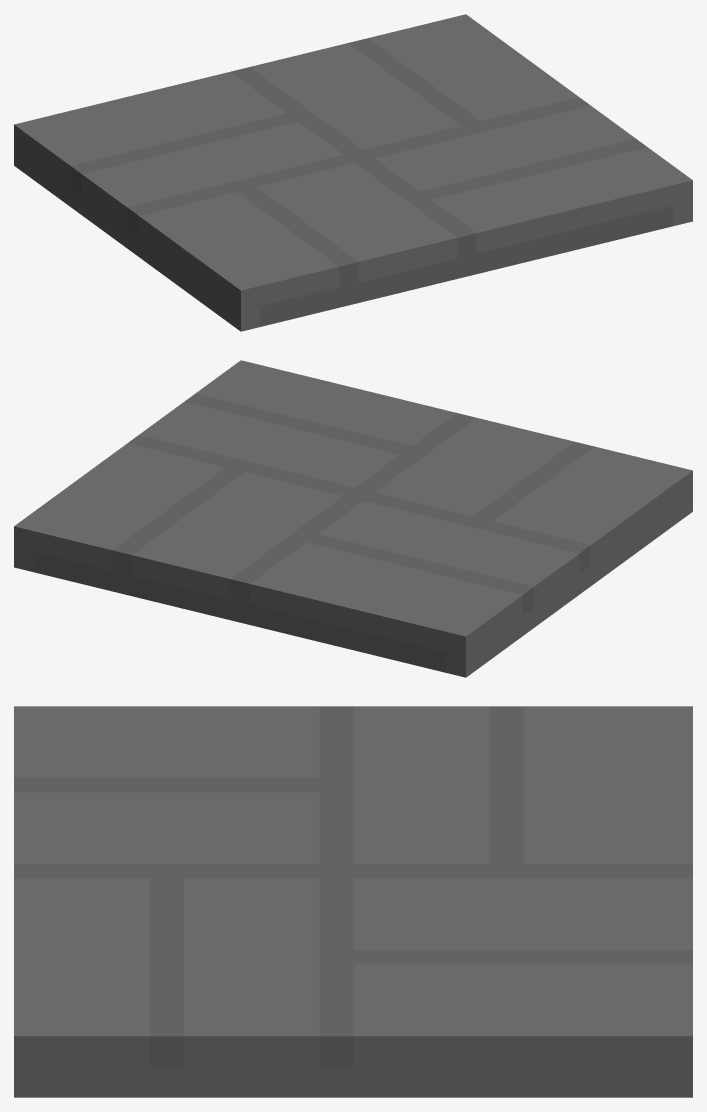
The model's file is Tile_City.obj.
The picture shows the model from 3 angles, top to bottom: view 1: azimuth 30°, elevation 25°; view 2: azimuth 150°, elevation 25°; view 3: azimuth 270°, elevation 25°; orthographic projection. The views are drawn at different scales.
Size of the model in its own units: 23 by 2 by 20.
Materials: 1 (1 with a texture image).
